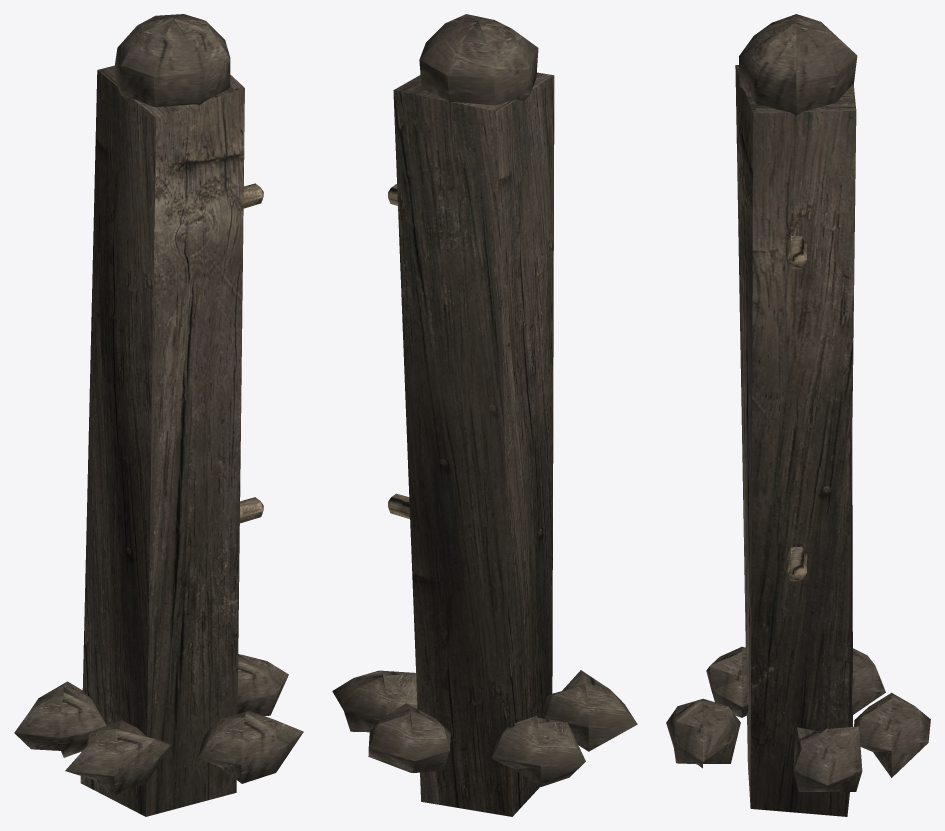
File: kit_tw_gatepost.glb
The picture shows the model from 3 angles, left to right: view 1: azimuth 30°, elevation 25°; view 2: azimuth 150°, elevation 25°; view 3: azimuth 270°, elevation 25°; orthographic projection.
Parts seen in each view (by area): view 1: kit_tw_gatepost; view 2: kit_tw_gatepost; view 3: kit_tw_gatepost.
Part boxes in pixels (left/top/right/bottom): kit_tw_gatepost: left=14, top=14, right=303, bottom=816; kit_tw_gatepost: left=332, top=14, right=637, bottom=816; kit_tw_gatepost: left=666, top=14, right=930, bottom=816.
Size of the model in its own units: 0.5874 by 1.64 by 0.5057.
Materials: 1 (1 with a texture image).
